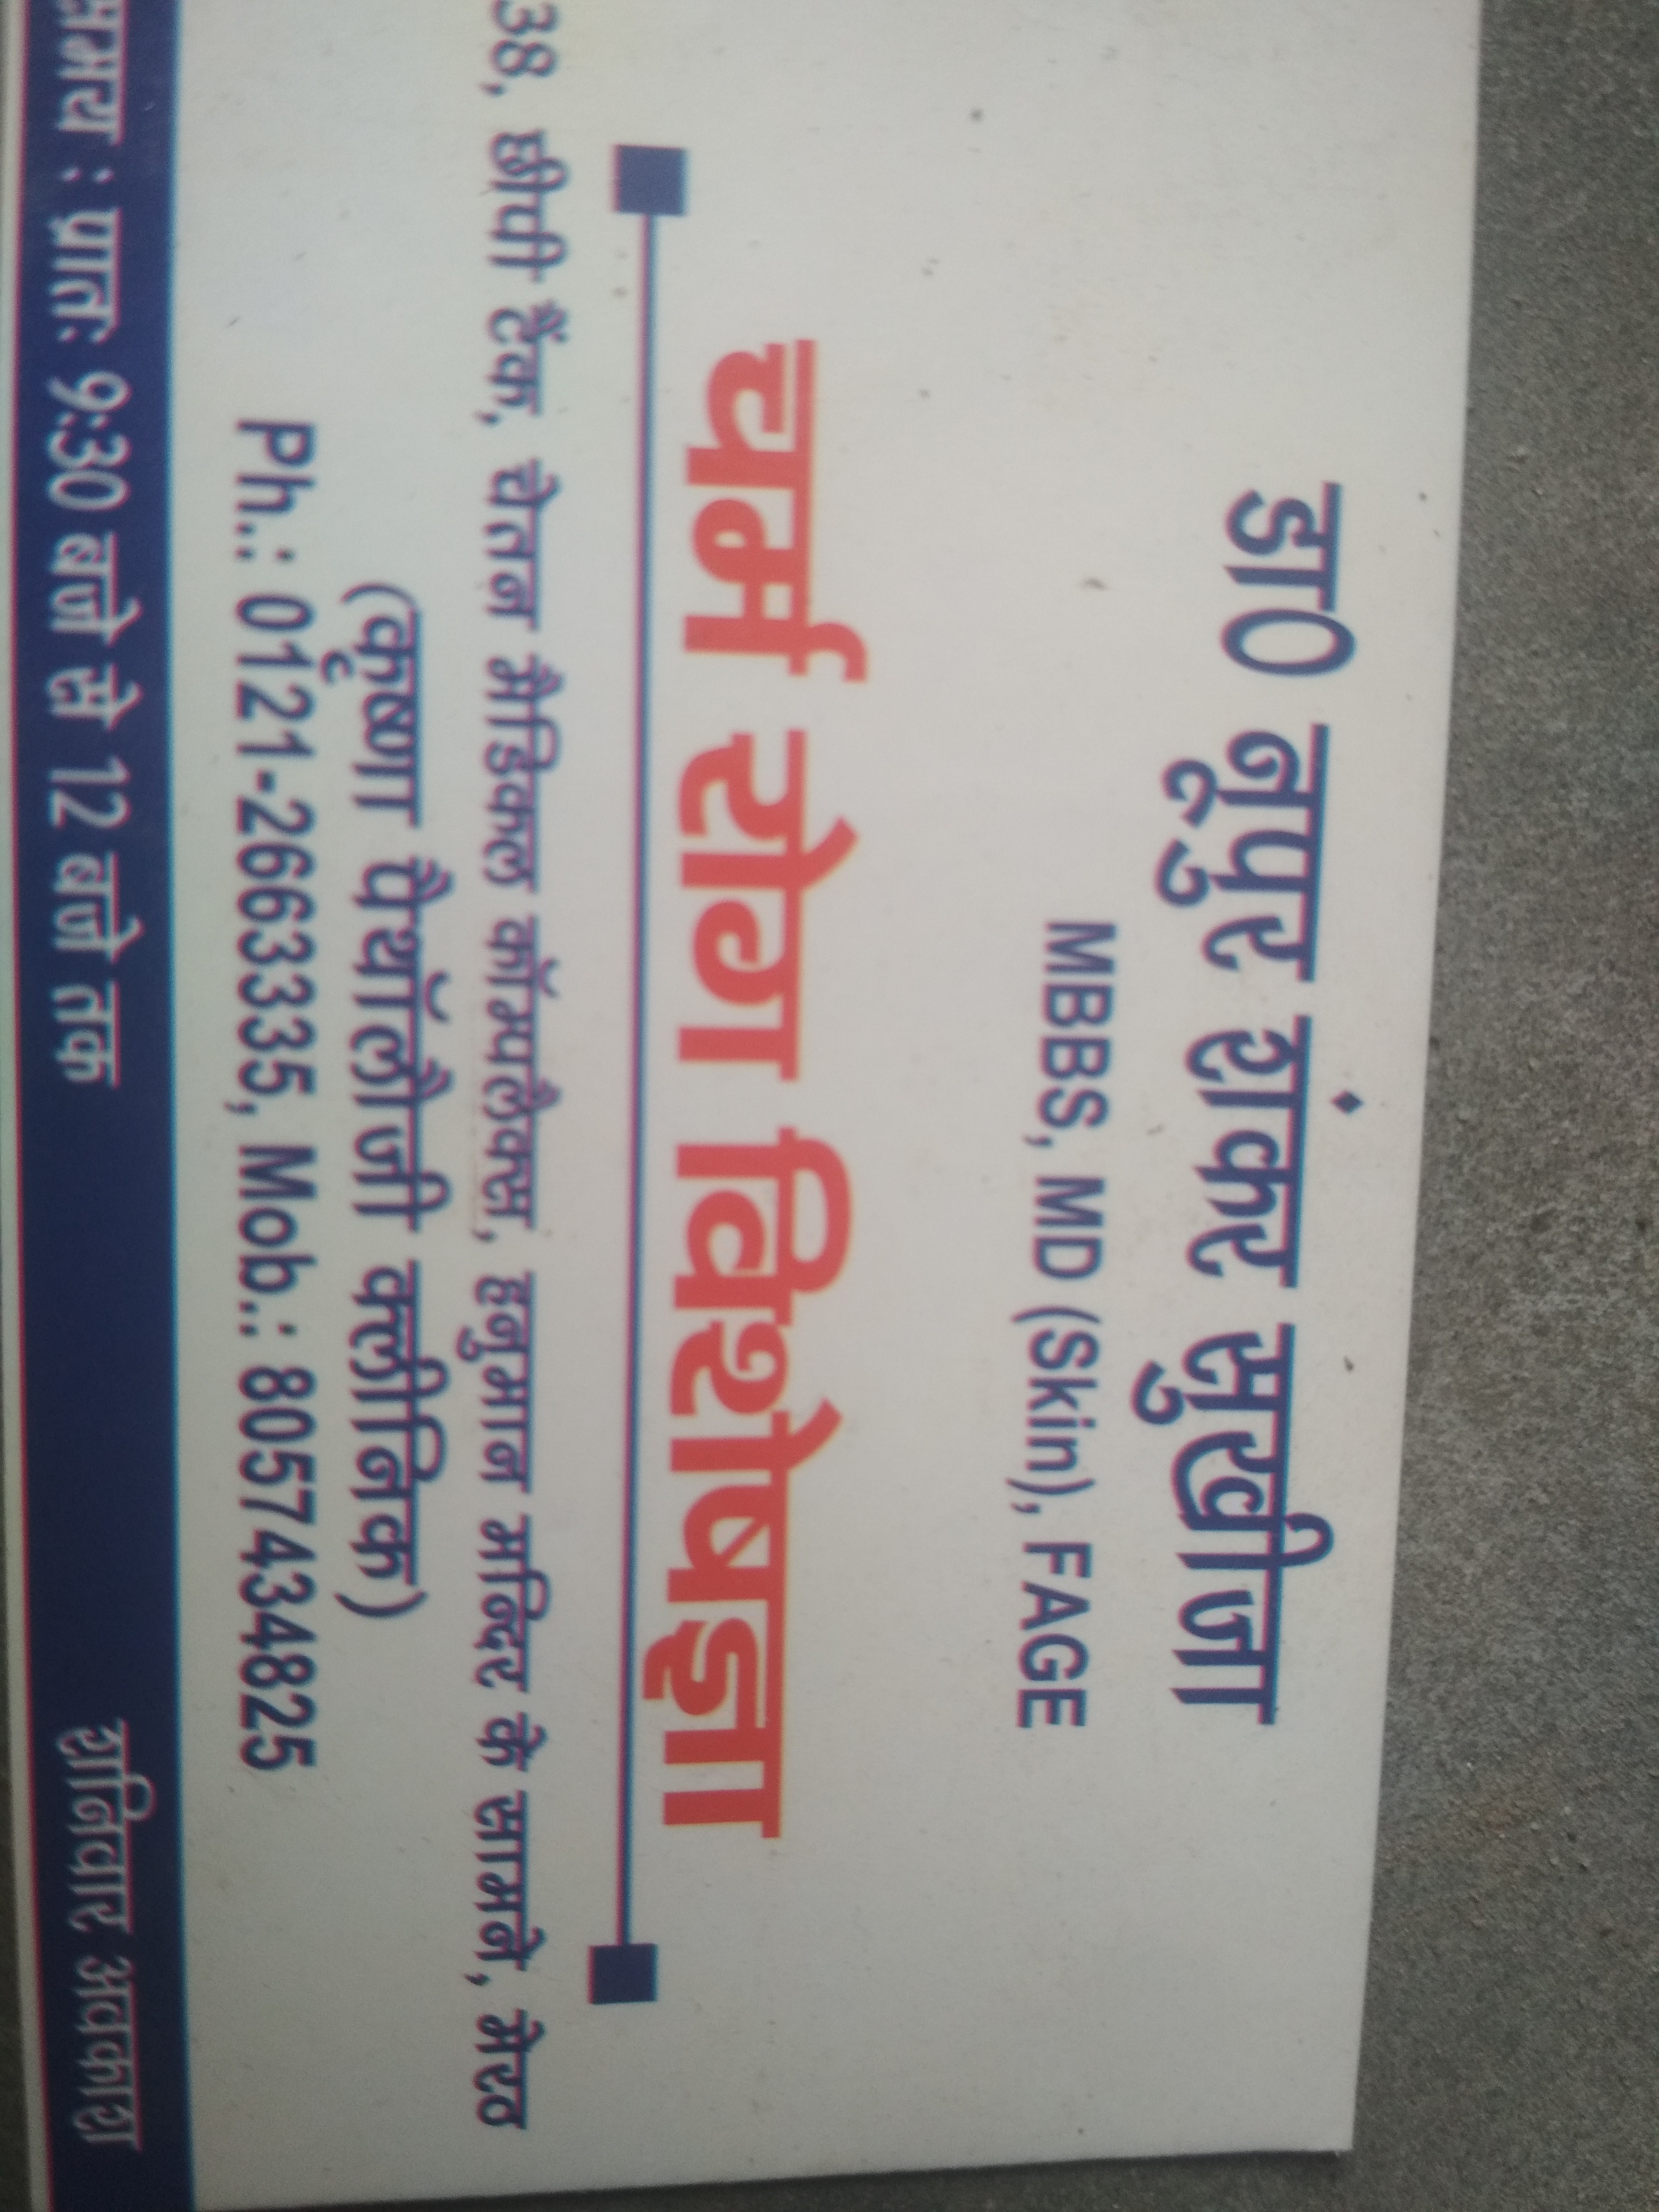text: (192, 7, 1480, 2207)
